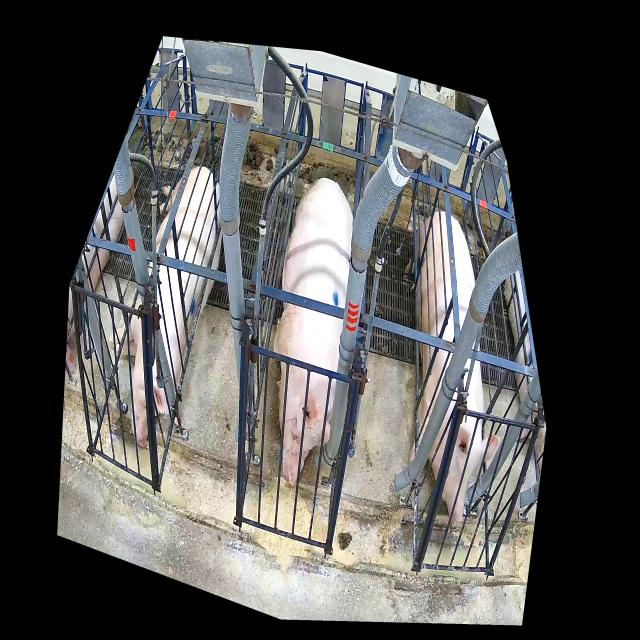pig: (110, 166, 223, 447), (404, 211, 500, 522), (273, 177, 353, 486)
